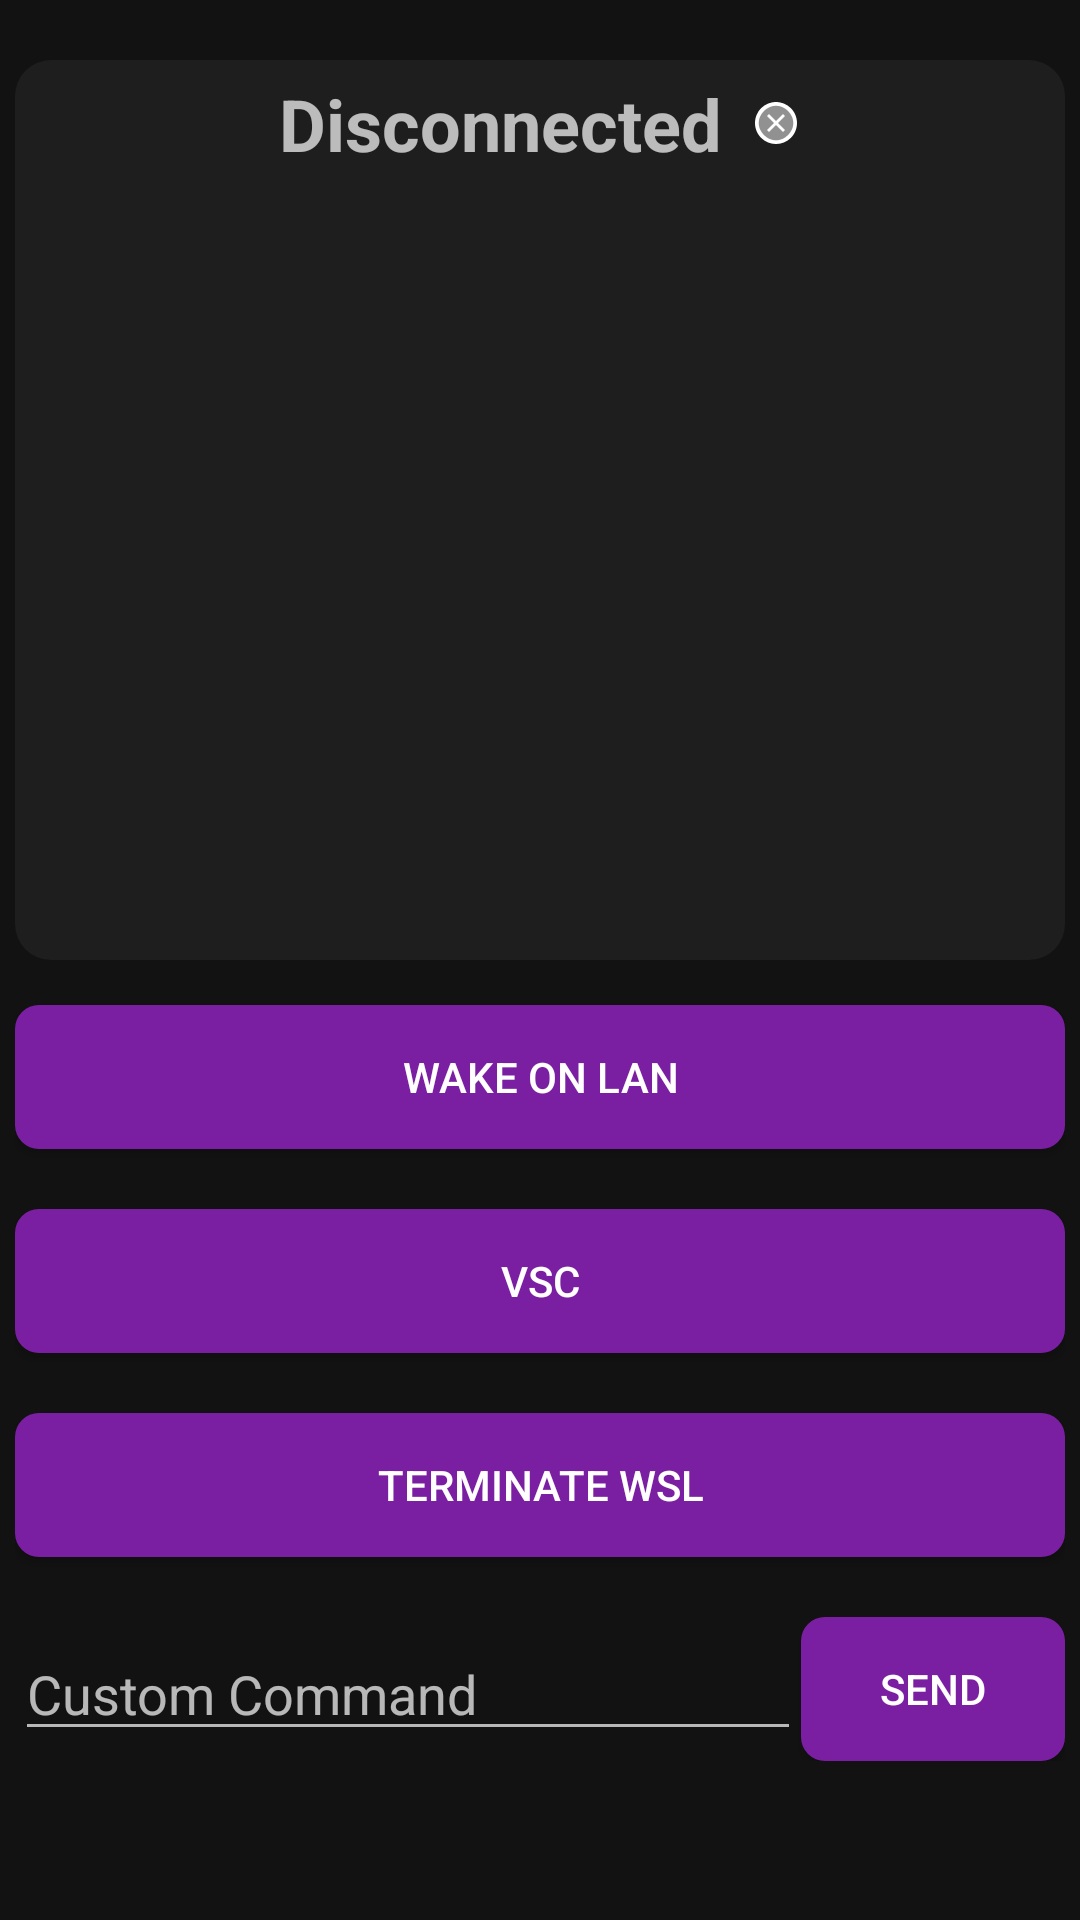

Where to tap for icons on this 1080px×1920px app screen, as (x,y):
presence offline: (776,123)
